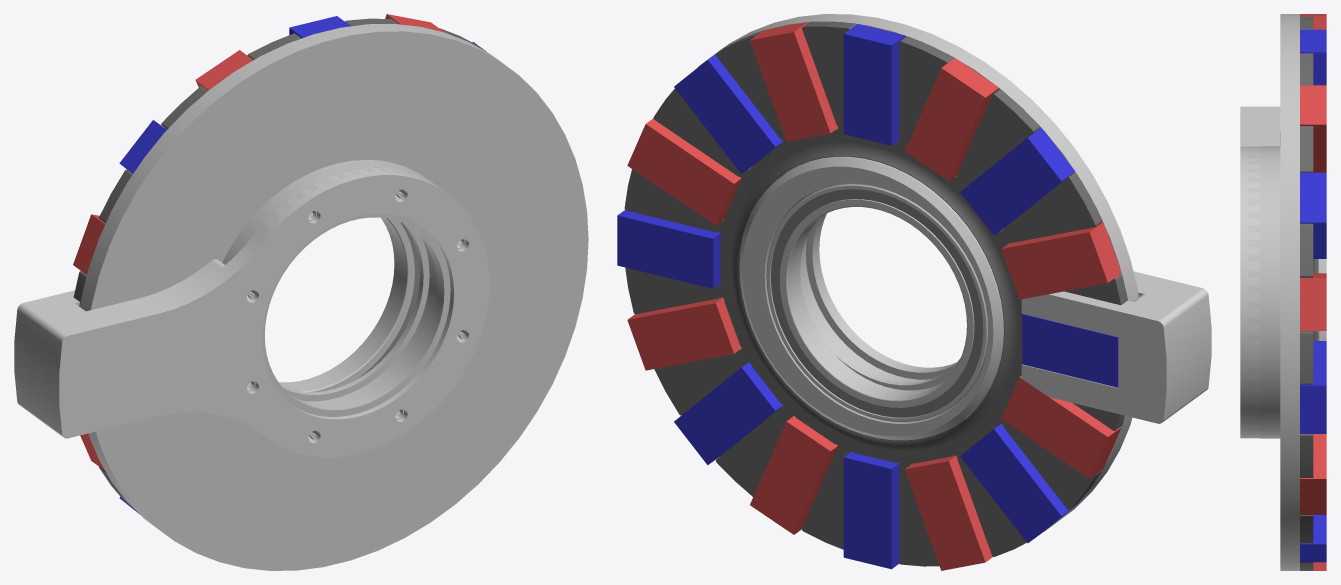
Rendered from backcore_colored.gltf.
The picture shows the model from 3 angles, left to right: view 1: azimuth 30°, elevation 25°; view 2: azimuth 150°, elevation 25°; view 3: azimuth 270°, elevation 25°; orthographic projection. The views are drawn at different scales.
Parts seen in each view (by area): view 1: backCore, magnetFixture, backCap, W 61706 2RZ, magnetTemplate, mesh452_mesh, mesh225_mesh, mesh243_mesh; view 2: magnetTemplate, backCore, W 61706 2RZ, magnetFixture, mesh422_mesh, mesh243_mesh, mesh213_mesh, mesh225_mesh, mesh219_mesh, mesh231_mesh, mesh428_mesh, mesh458_mesh (+9 smaller); view 3: backCore, magnetFixture, magnetTemplate, mesh458_mesh, mesh434_mesh, mesh213_mesh, backCap, mesh201_mesh, mesh231_mesh, mesh422_mesh, mesh416_mesh, mesh243_mesh.
Part boxes in pixels (left/top/right/bottom): backCore: left=80, top=24, right=588, bottom=570; magnetFixture: left=14, top=167, right=489, bottom=457; backCap: left=259, top=167, right=450, bottom=416; W 61706 2RZ: left=279, top=217, right=419, bottom=392; magnetTemplate: left=73, top=18, right=484, bottom=506; mesh452_mesh: left=119, top=120, right=166, bottom=173; mesh225_mesh: left=73, top=214, right=105, bottom=274; mesh243_mesh: left=195, top=50, right=253, bottom=90; magnetTemplate: left=624, top=21, right=1127, bottom=566; backCore: left=697, top=14, right=1138, bottom=531; W 61706 2RZ: left=766, top=184, right=987, bottom=422; magnetFixture: left=1021, top=271, right=1211, bottom=423; mesh422_mesh: left=843, top=23, right=905, bottom=145; mesh243_mesh: left=904, top=58, right=998, bottom=181; mesh213_mesh: left=750, top=22, right=838, bottom=141; mesh225_mesh: left=1001, top=222, right=1121, bottom=299; mesh219_mesh: left=904, top=455, right=992, bottom=570; mesh231_mesh: left=627, top=118, right=741, bottom=225; mesh428_mesh: left=843, top=451, right=899, bottom=569; mesh458_mesh: left=617, top=210, right=720, bottom=288; backCore: left=1260, top=14, right=1326, bottom=570; magnetFixture: left=1240, top=106, right=1280, bottom=438; magnetTemplate: left=1300, top=16, right=1318, bottom=570; mesh458_mesh: left=1300, top=341, right=1326, bottom=433; mesh434_mesh: left=1300, top=172, right=1326, bottom=258; mesh213_mesh: left=1300, top=85, right=1326, bottom=172; backCap: left=1248, top=146, right=1260, bottom=437; mesh201_mesh: left=1300, top=434, right=1326, bottom=514; mesh231_mesh: left=1300, top=273, right=1326, bottom=330; mesh422_mesh: left=1300, top=29, right=1326, bottom=85; mesh416_mesh: left=1300, top=515, right=1326, bottom=562; mesh243_mesh: left=1300, top=14, right=1326, bottom=29.
Bounding box in the file's own units: 0.0919 × 0.0839 × 0.013.
